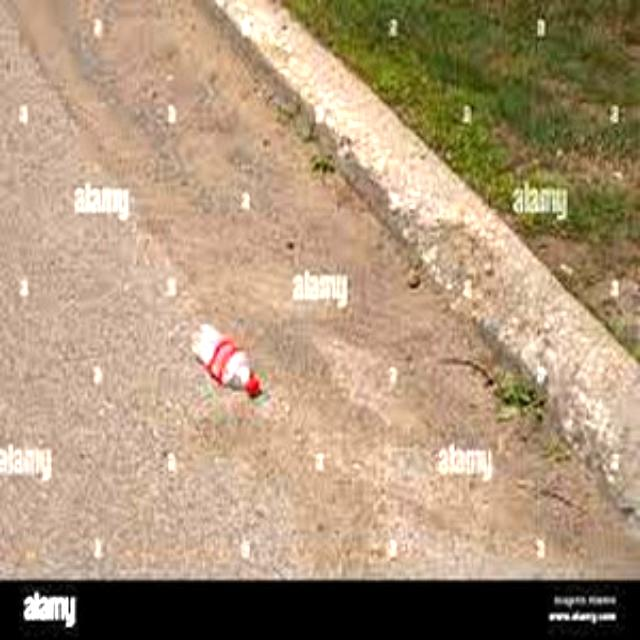Plastic: (186, 318, 272, 400)
